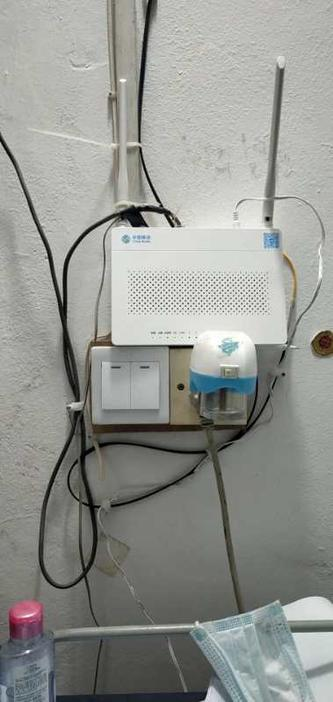switch: (127, 363, 160, 408), (98, 362, 129, 407)
